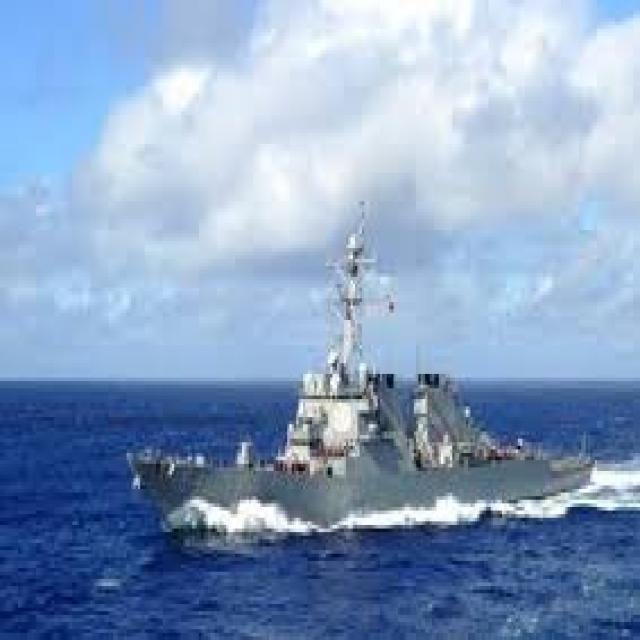navalvessels: (133, 231, 599, 539)
